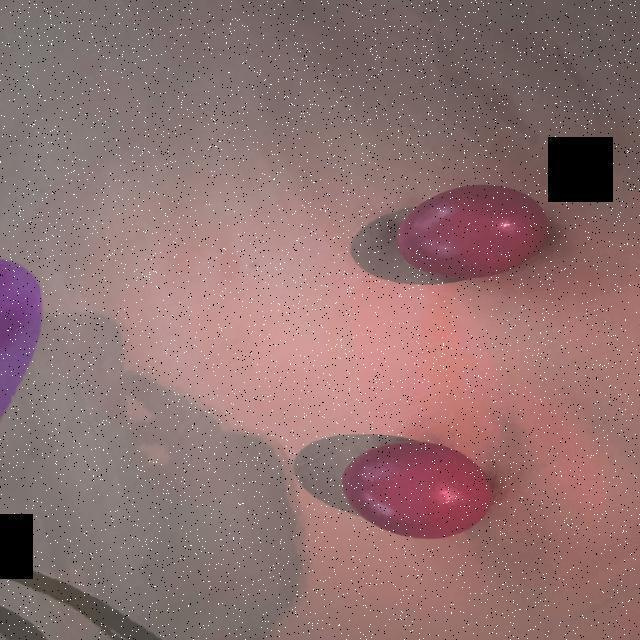egg: (330, 429, 509, 542), (388, 180, 564, 285)
